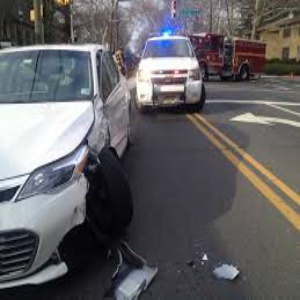bumper: (12, 192, 92, 284)
